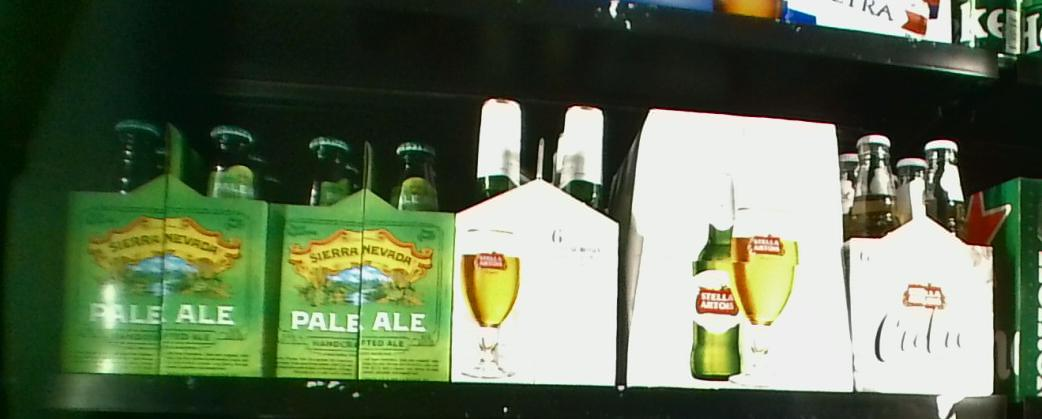bottle: (626, 100, 848, 394), (54, 124, 268, 376), (458, 94, 621, 388), (270, 121, 454, 380), (849, 126, 998, 394)
